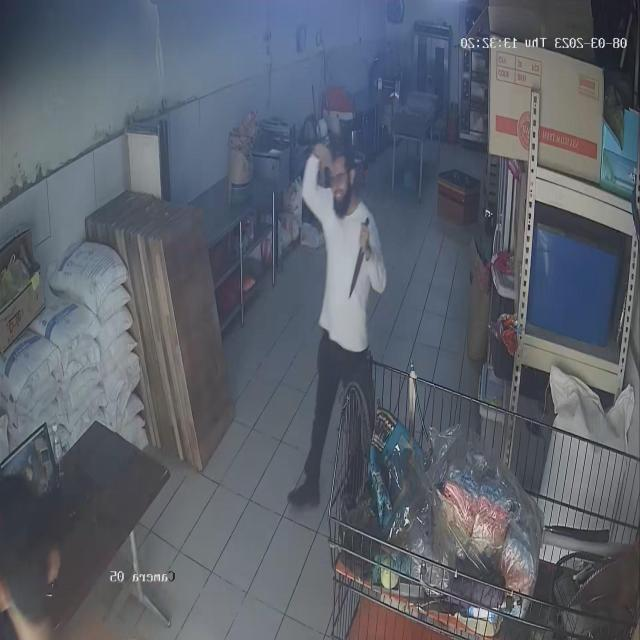Knife: (334, 215, 384, 298)
